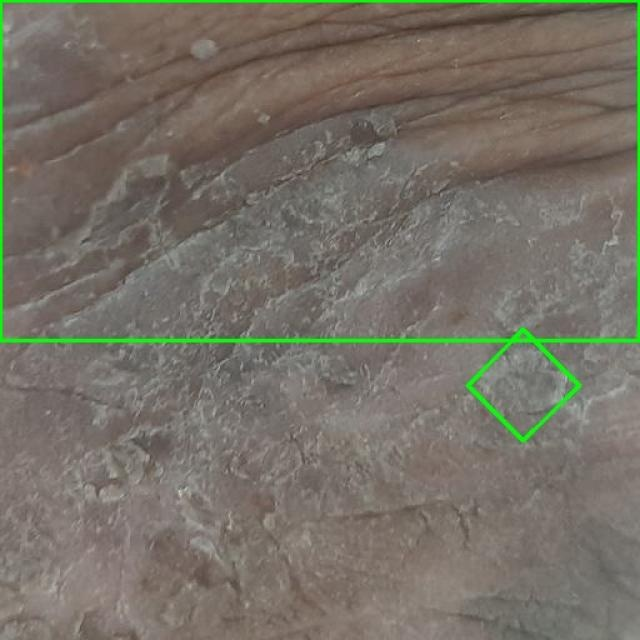Eczema: (0, 0, 639, 341), (468, 329, 579, 441)
